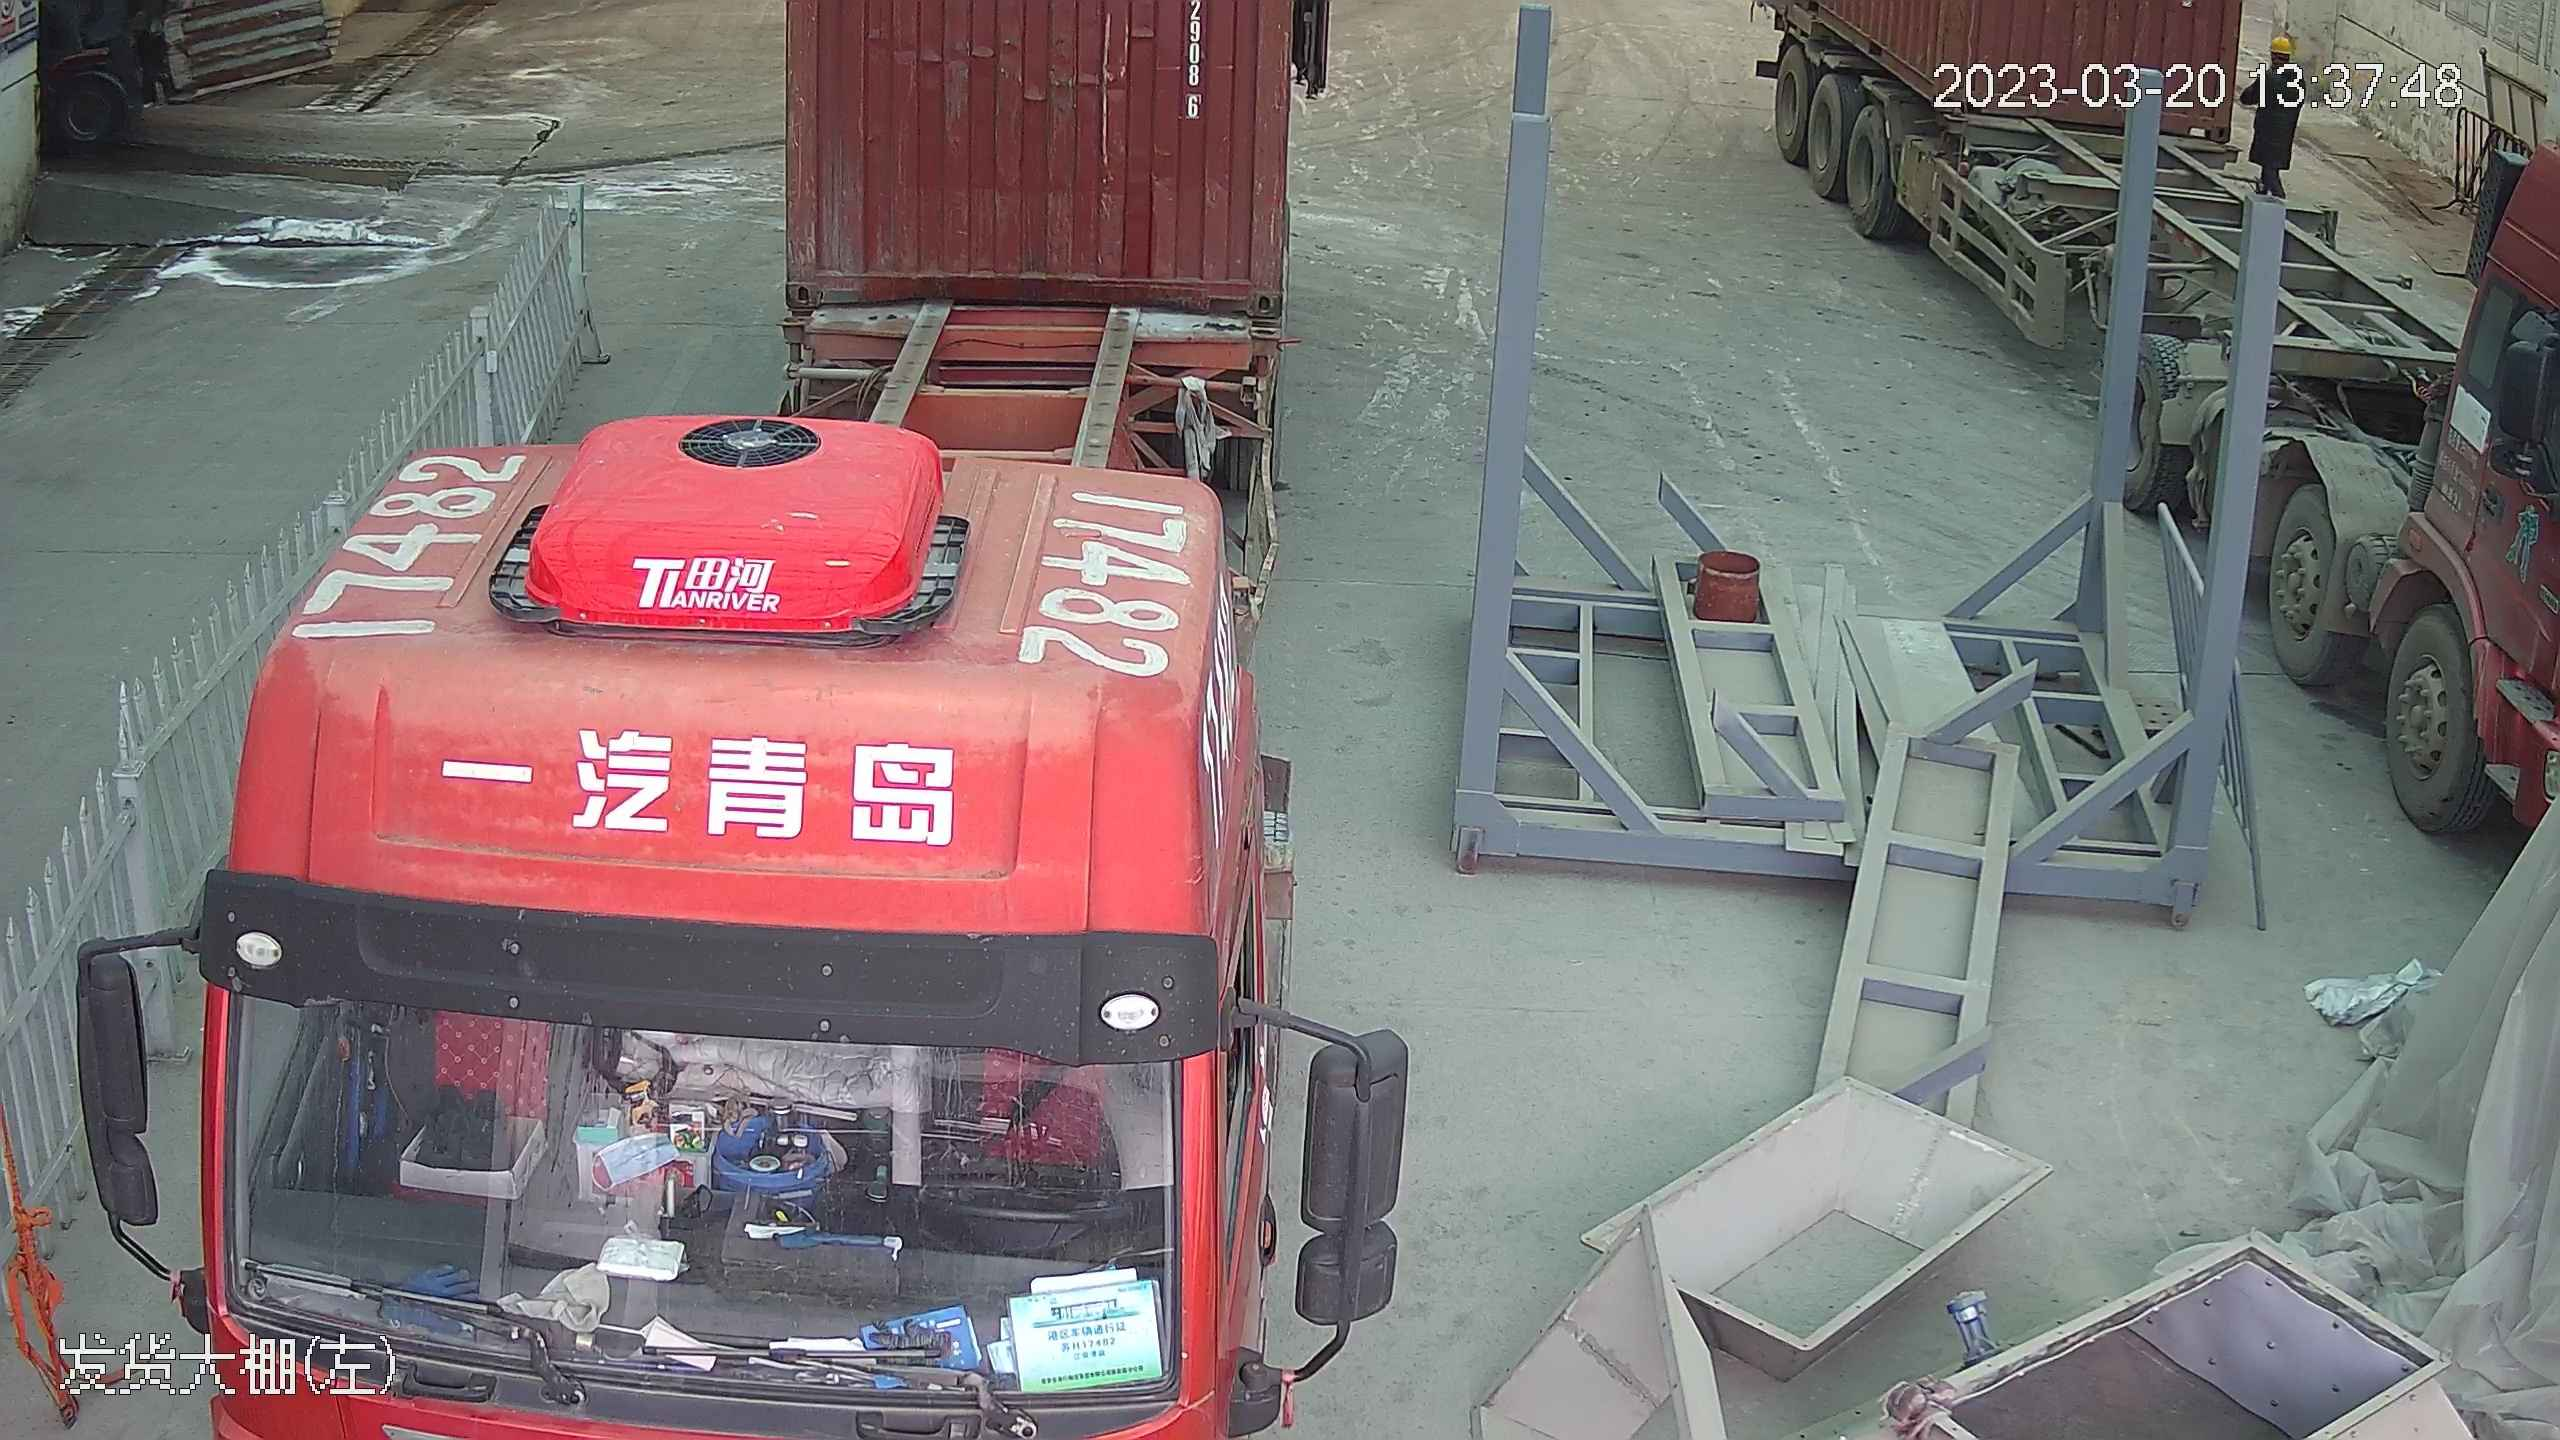head: (2258, 33, 2304, 86)
helmet: (2269, 33, 2294, 54)
people: (2245, 36, 2309, 198)
truck: (74, 7, 1310, 1440)
